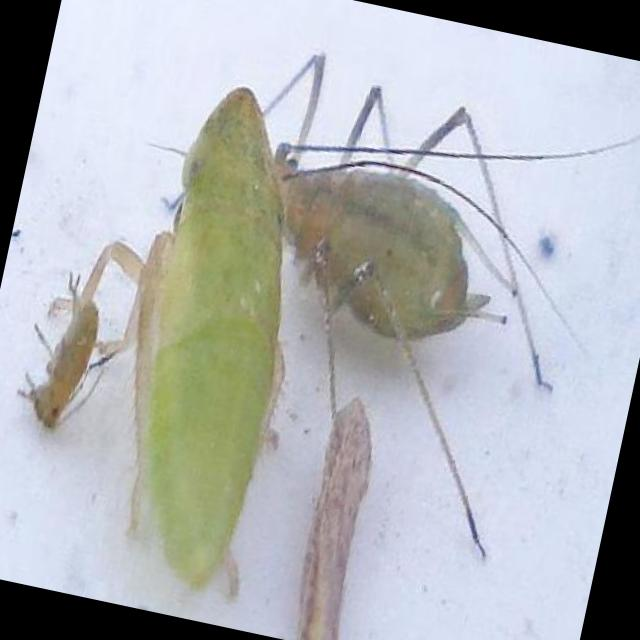green-leafhopper: (46, 91, 284, 597), (281, 148, 519, 554)
